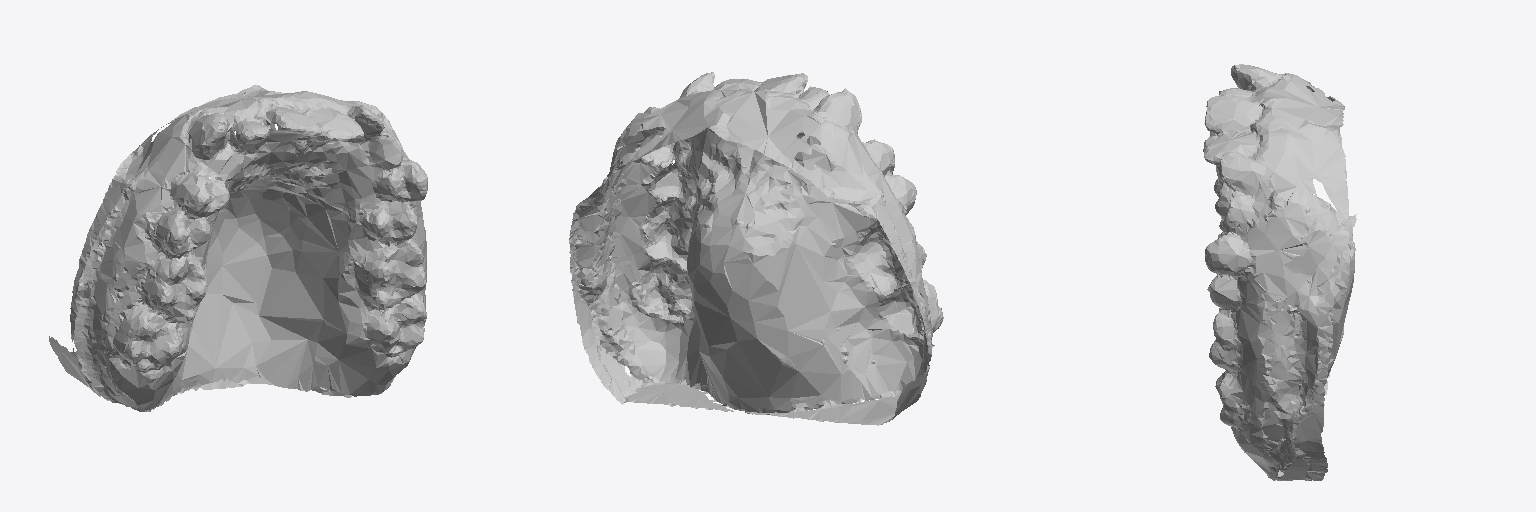
Rendered from kiefer.obj.
The picture shows the model from 3 angles: view 1: azimuth 30°, elevation 25°; view 2: azimuth 150°, elevation 25°; view 3: azimuth 270°, elevation 25°; orthographic projection.
Size of the model in its own units: 66.18 by 59.43 by 25.1.